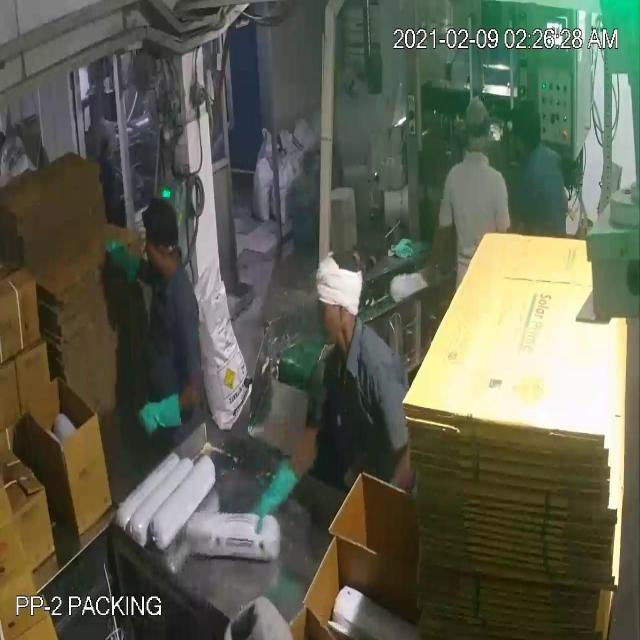Gloves: (35, 68, 435, 498)
